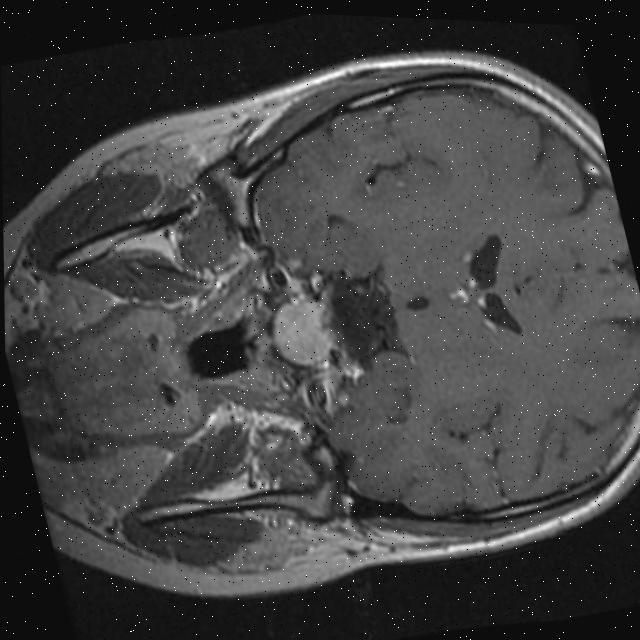Pituitary: (265, 293, 341, 374)
